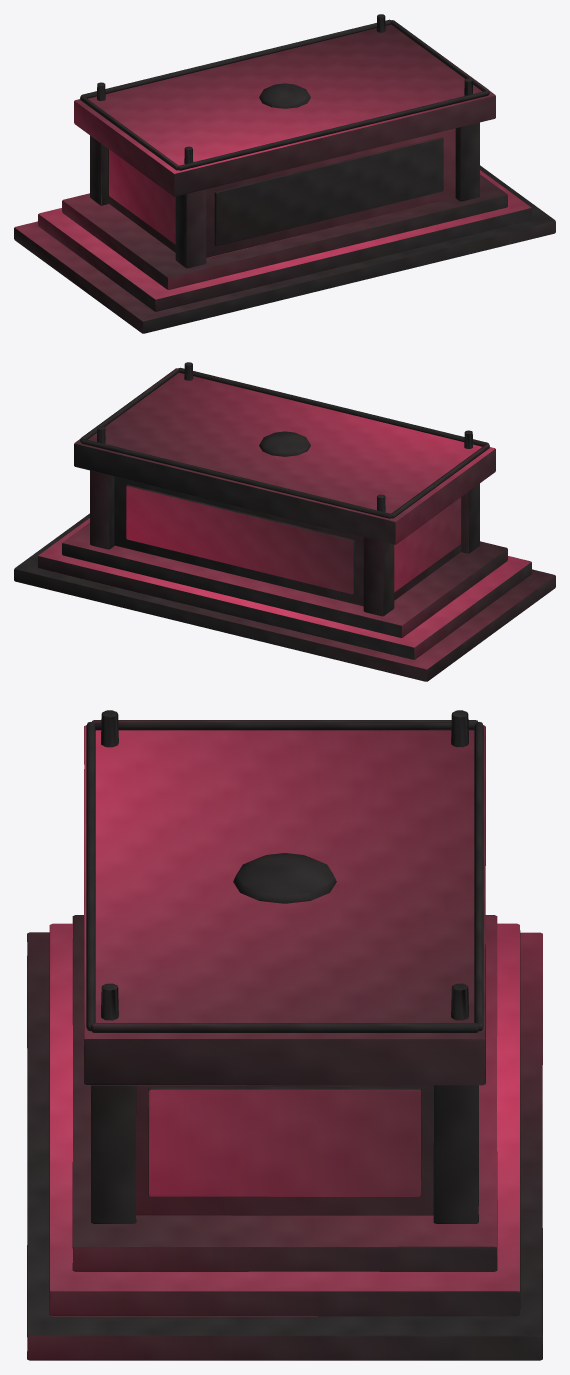
File: StoneAltar_Ritual_LOD1.glb
3 views of the same model, one above another, from view 1: azimuth 30°, elevation 25°; view 2: azimuth 150°, elevation 25°; view 3: azimuth 270°, elevation 25° (orthographic). The views are drawn at different scales.
Visible parts, largest first — view 1: StoneAltar_Ritual_LOD1; view 2: StoneAltar_Ritual_LOD1; view 3: StoneAltar_Ritual_LOD1.
Boxes of the visible parts, x1,y1,x2,y2 form: StoneAltar_Ritual_LOD1: (14, 14, 555, 333); StoneAltar_Ritual_LOD1: (14, 362, 555, 681); StoneAltar_Ritual_LOD1: (27, 710, 542, 1360).
Size of the model in its own units: 3.26 by 1.17 by 1.76.
1 material, 1 textured.
